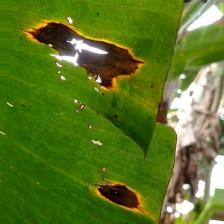cordana: (0, 0, 176, 224)
